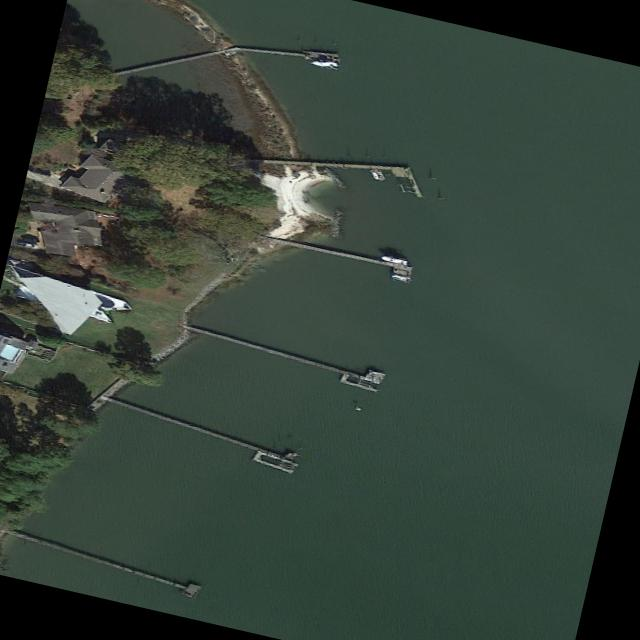ship: (376, 252, 408, 265), (304, 58, 340, 68), (387, 272, 409, 281), (368, 170, 379, 179)
small-vehicle: (16, 234, 38, 242), (15, 240, 37, 248)
